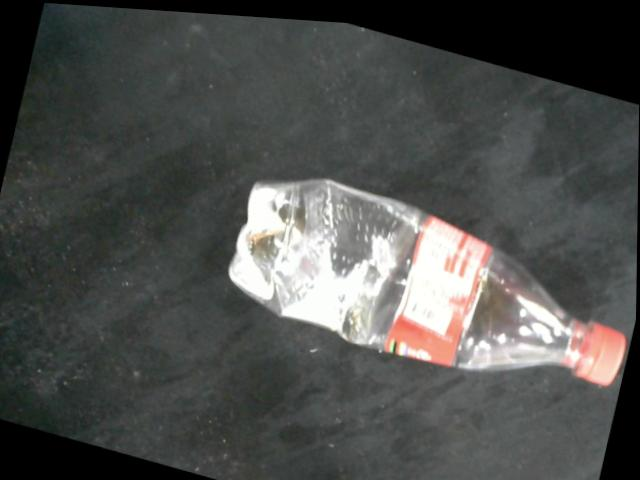bottle: (228, 173, 628, 379)
